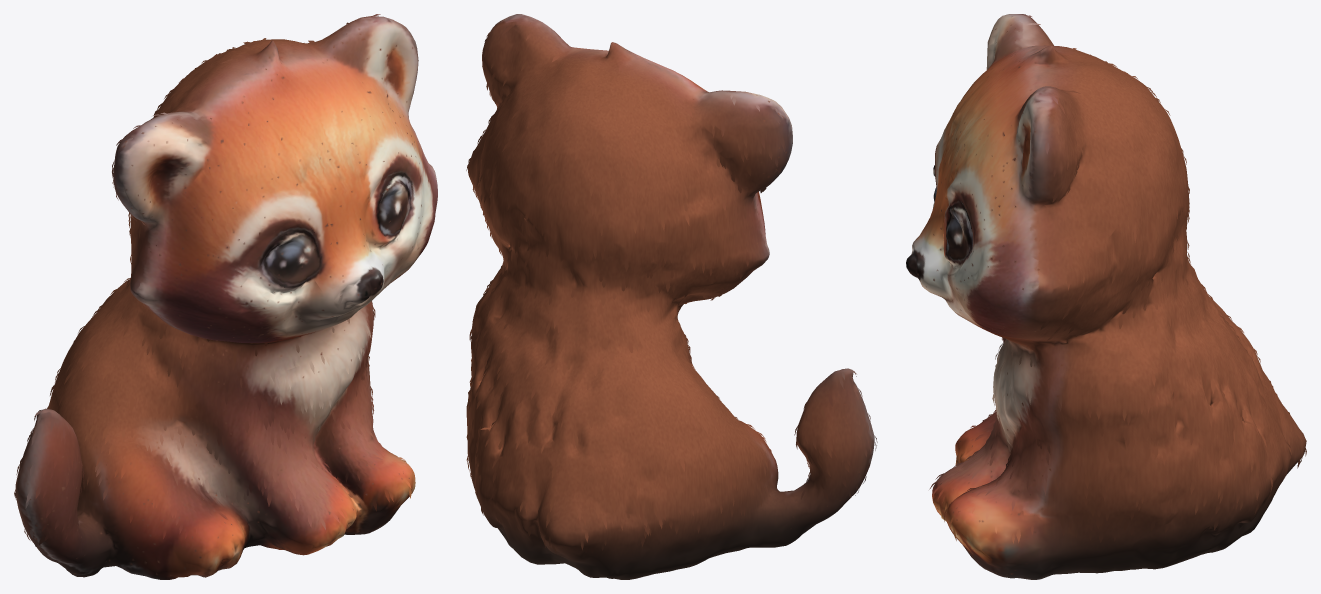
File: pet.glb
3 views of the same model, side by side, from view 1: azimuth 30°, elevation 25°; view 2: azimuth 150°, elevation 25°; view 3: azimuth 270°, elevation 25° (orthographic). The views are drawn at different scales.
Visible parts, largest first — view 1: JungleRedPanda_Body, JungleRedPanda_SculptedFur; view 2: JungleRedPanda_Body, JungleRedPanda_SculptedFur; view 3: JungleRedPanda_Body, JungleRedPanda_SculptedFur.
Boxes of the visible parts, x1,y1,x2,y2 form: JungleRedPanda_Body: [15, 16, 437, 579]; JungleRedPanda_SculptedFur: [14, 14, 411, 546]; JungleRedPanda_Body: [466, 14, 874, 579]; JungleRedPanda_SculptedFur: [466, 19, 877, 553]; JungleRedPanda_Body: [906, 14, 1306, 579]; JungleRedPanda_SculptedFur: [929, 14, 1306, 543].
Bounding box in the file's own units: 2.52 × 2.8 × 2.04.
2 materials, 2 textured.
